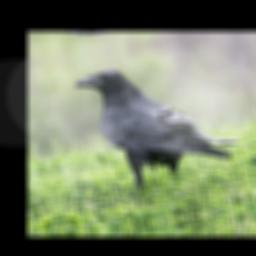Crow: (72, 53, 247, 202)
